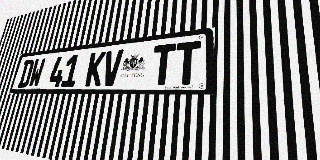1: (61, 54, 81, 87)
4: (48, 56, 67, 87)
D: (17, 59, 35, 88)
K: (85, 51, 106, 86)
T: (174, 40, 201, 85), (150, 43, 176, 85)
V: (101, 49, 124, 86)
W: (28, 58, 46, 87)
